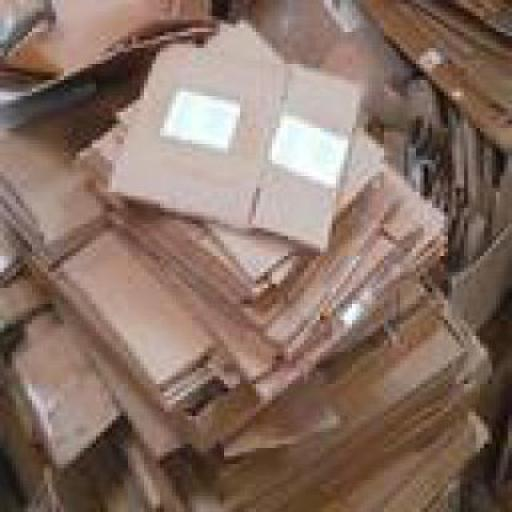cardboard: (0, 0, 508, 508), (24, 220, 420, 448), (72, 16, 380, 300), (112, 296, 484, 508), (156, 183, 440, 400), (103, 160, 416, 336), (103, 36, 352, 236), (0, 348, 176, 508), (0, 72, 124, 264), (356, 0, 508, 148), (224, 0, 412, 116), (440, 208, 508, 508), (8, 296, 113, 465), (316, 408, 488, 508), (0, 0, 213, 73), (360, 68, 440, 188), (436, 112, 484, 256), (440, 232, 508, 324), (480, 145, 508, 232)
